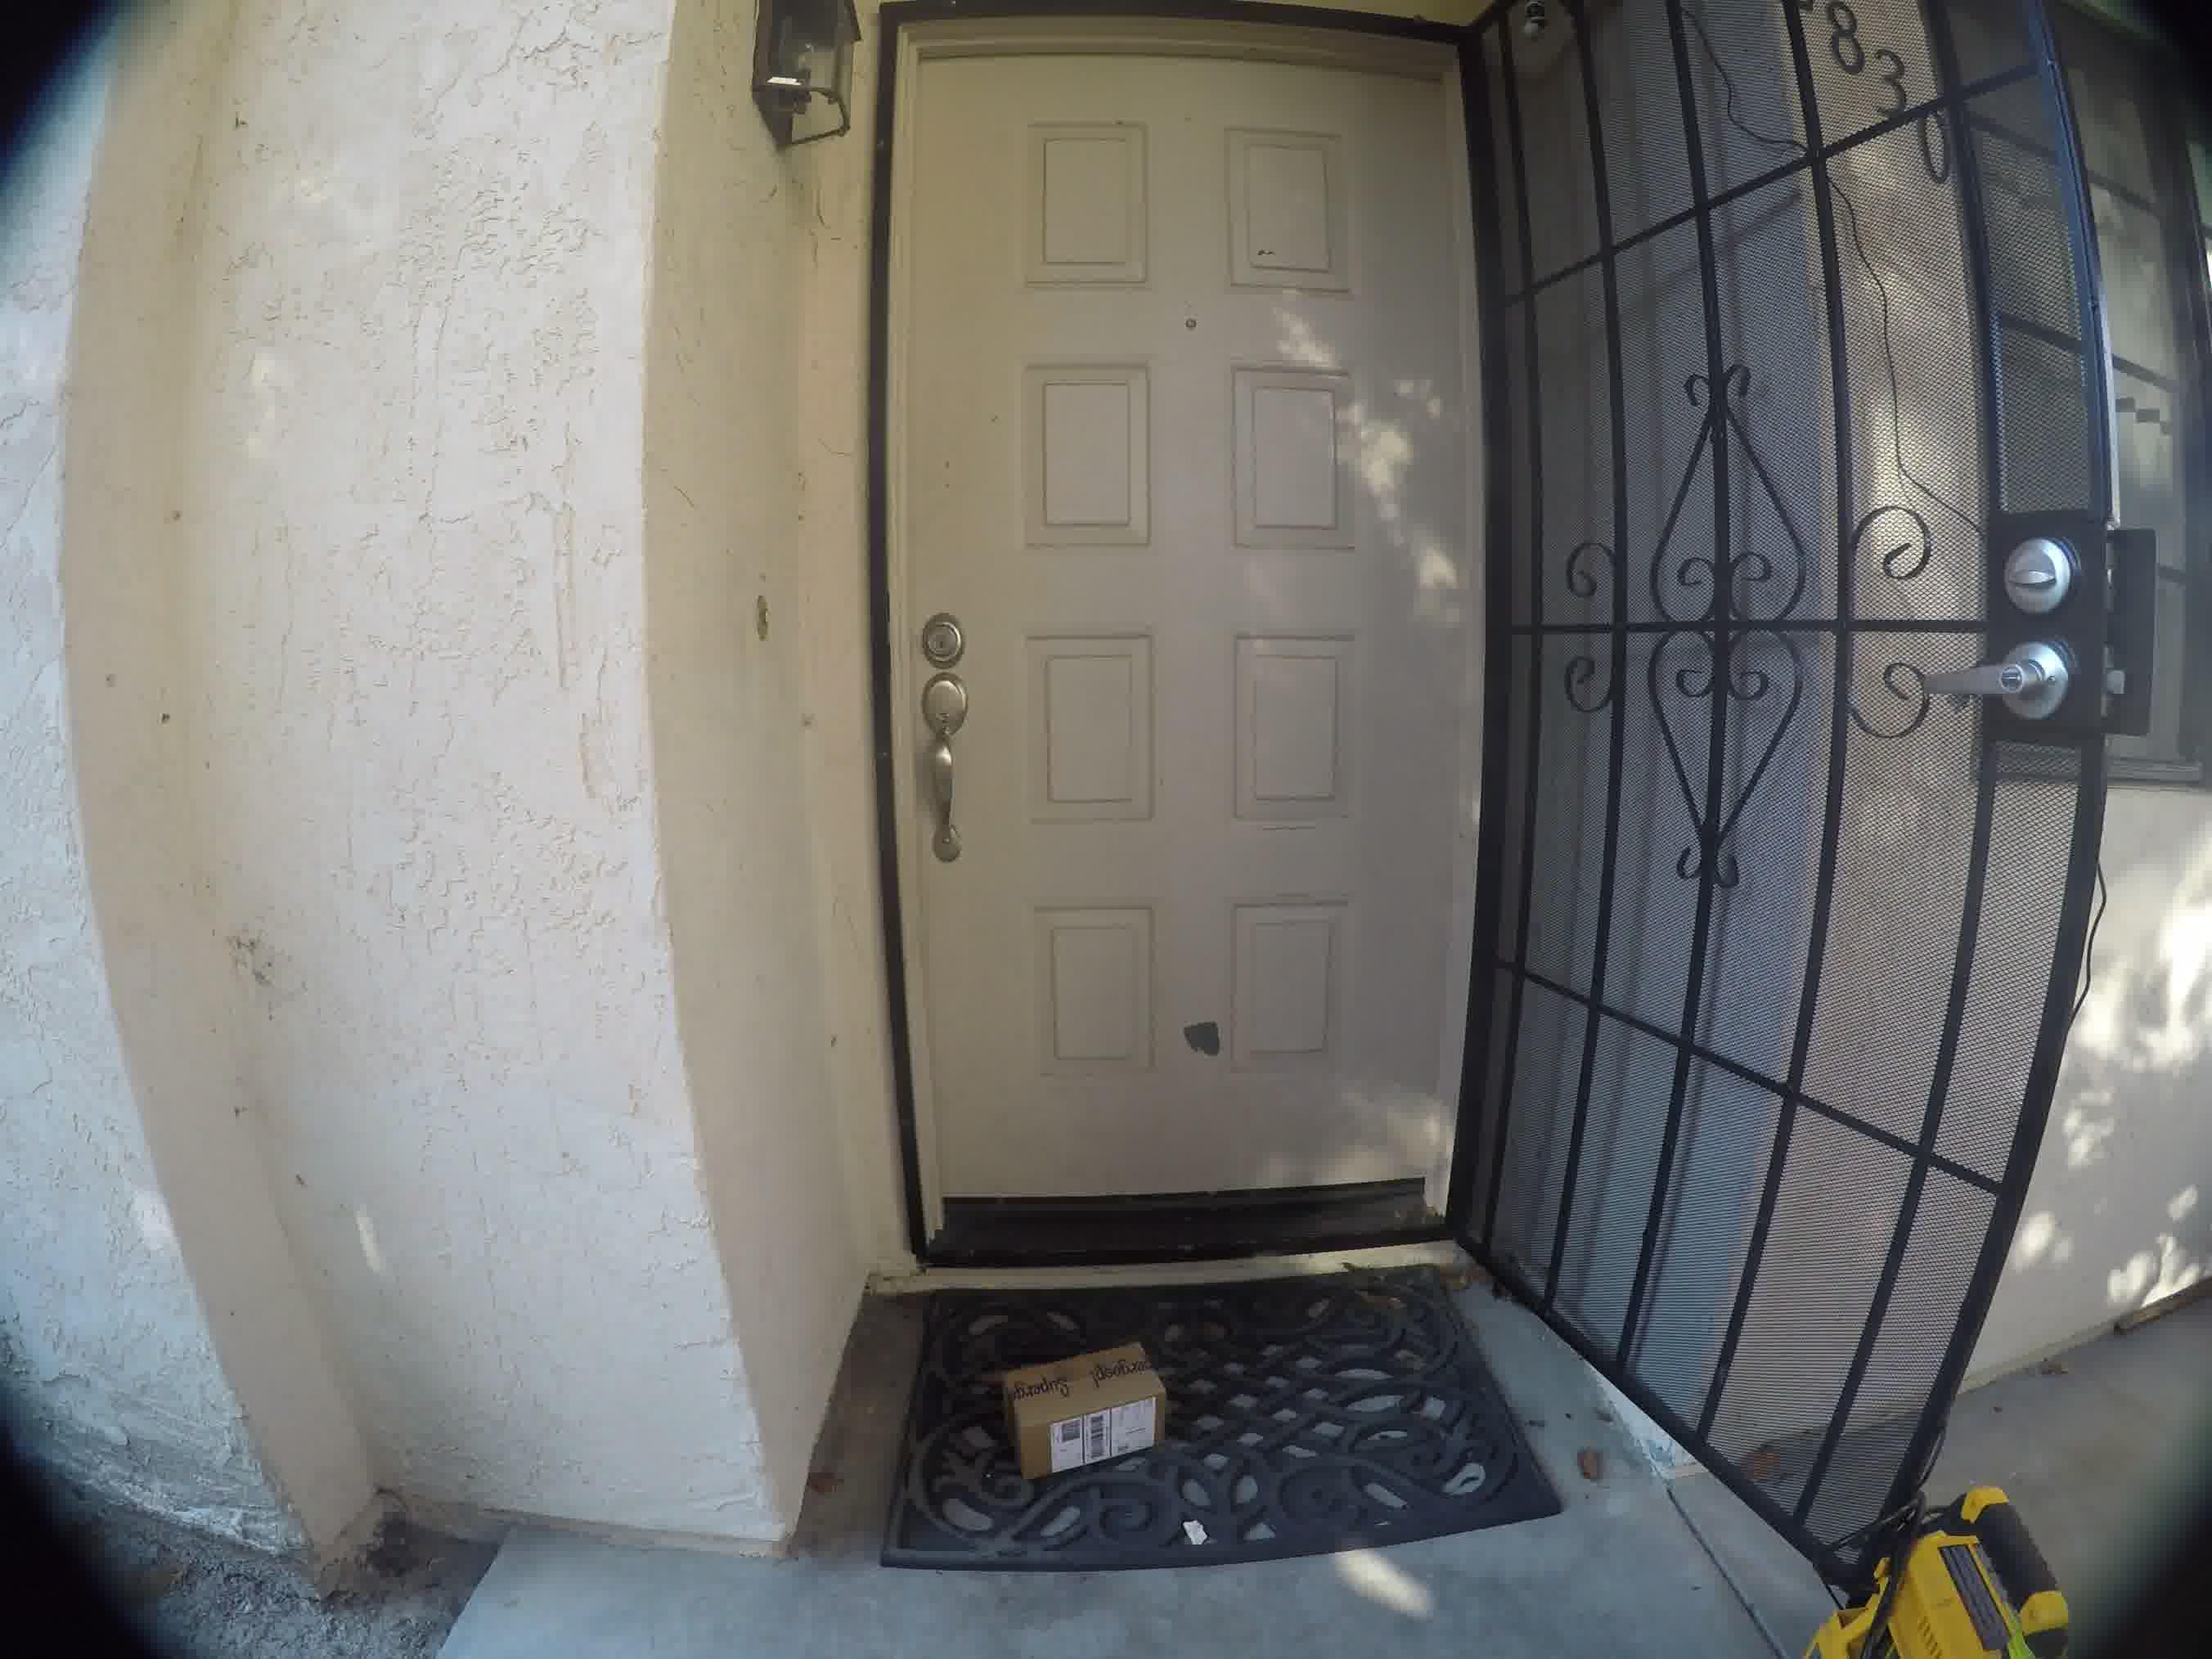box: (979, 1338, 1170, 1464)
